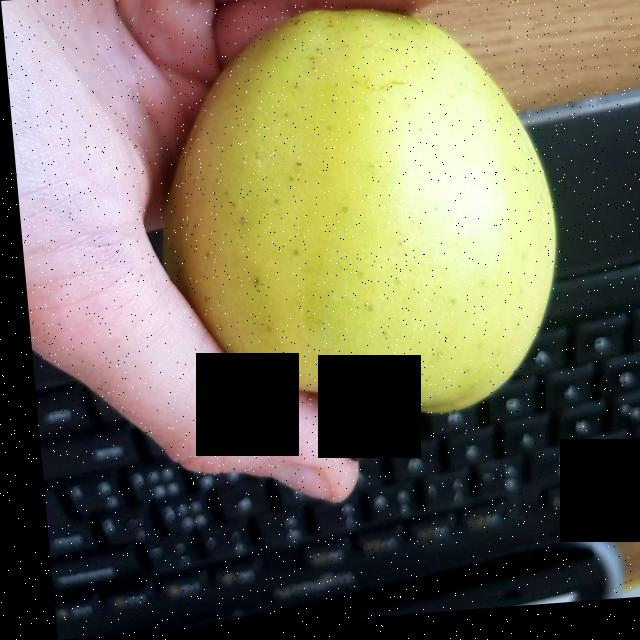apple: (180, 17, 547, 432)
